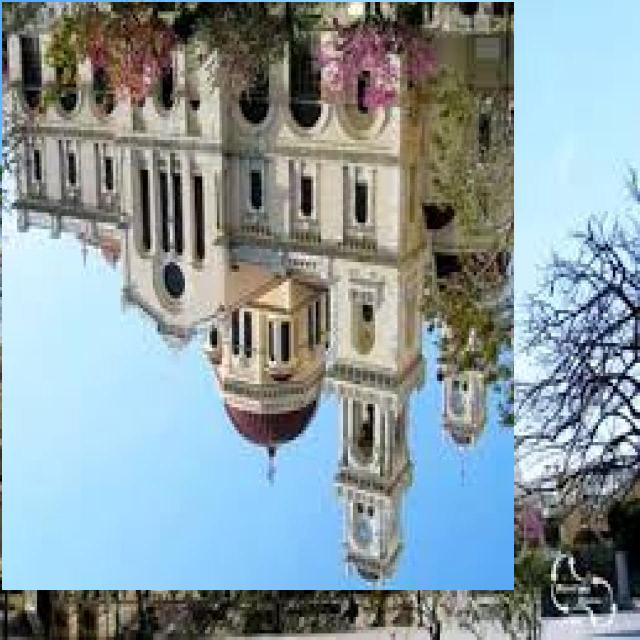Agios Minas: (3, 3, 515, 591)
